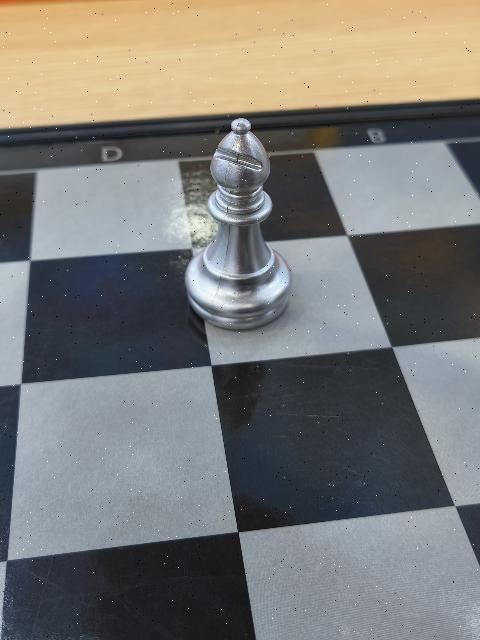white_bishop: (183, 116, 293, 327)
